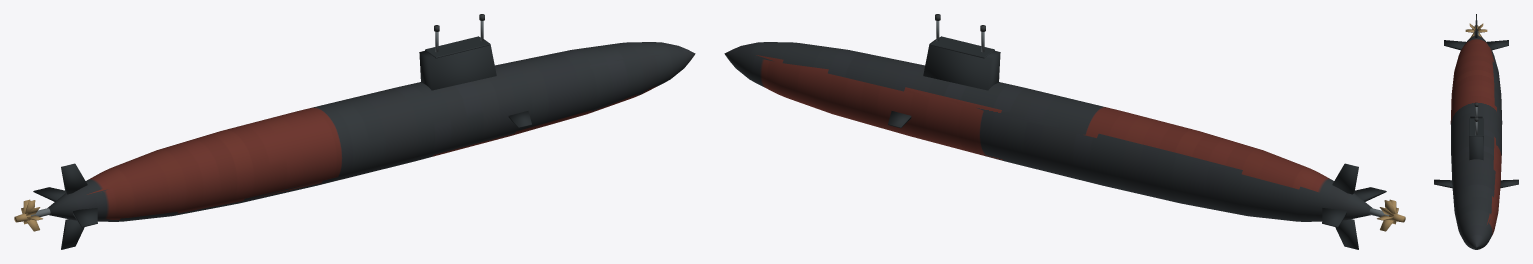
File: FR_SSN_Rubis_LOD2.fbx
3 renders of one model, left to right at view 1: azimuth 30°, elevation 25°; view 2: azimuth 150°, elevation 25°; view 3: azimuth 270°, elevation 25°, orthographic. The views are drawn at different scales.
Visible parts, largest first — view 1: FR_SSN_Rubis_LOD2; view 2: FR_SSN_Rubis_LOD2; view 3: FR_SSN_Rubis_LOD2.
Part boxes in pixels (left/top/right/bottom): FR_SSN_Rubis_LOD2: left=14, top=14, right=695, bottom=249; FR_SSN_Rubis_LOD2: left=724, top=14, right=1405, bottom=249; FR_SSN_Rubis_LOD2: left=1434, top=14, right=1518, bottom=249.
Bounding box in the file's own units: 77.35 × 12.53 × 14.34.
Materials: 6 (1 with a texture image).
